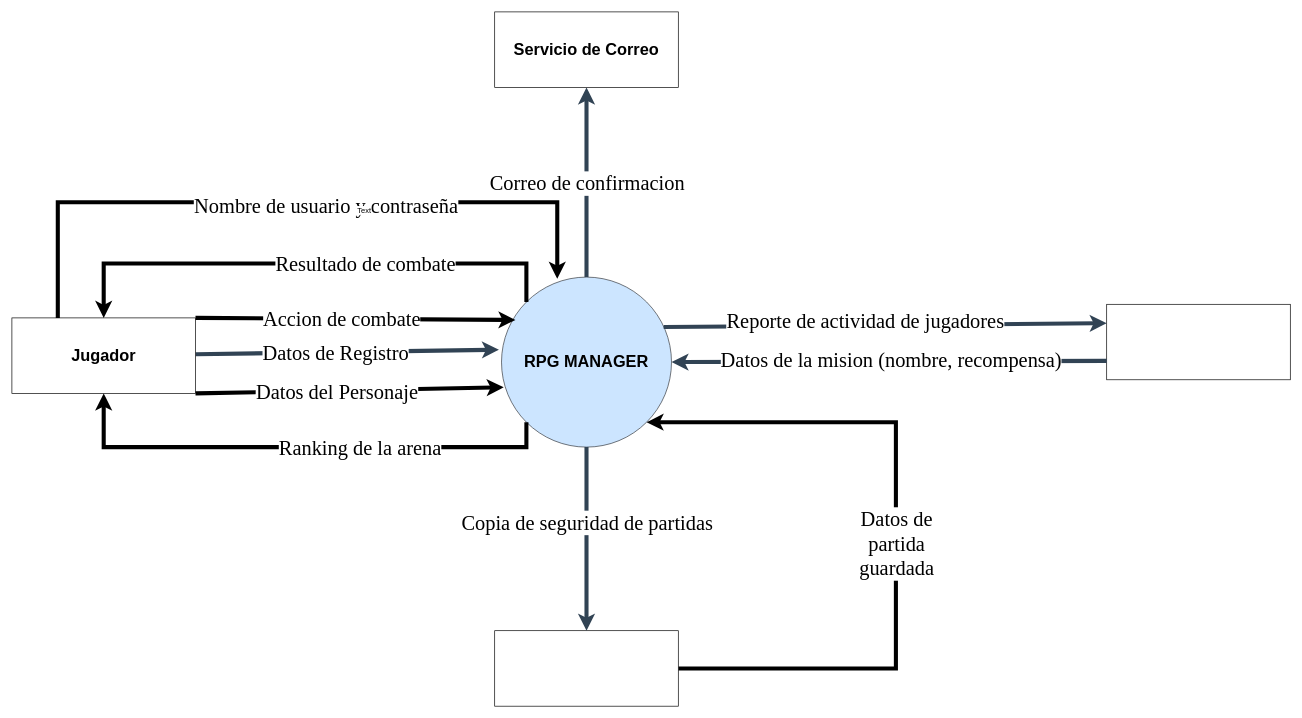
The diagram is 1302 pixels wide and 718 high, and some of its shapes have lost their labels. Each missing label, with the box of its shape:
Game Master: (1106, 304, 1290, 380)
Servicio de respaldo en la nube: (494, 630, 678, 706)
